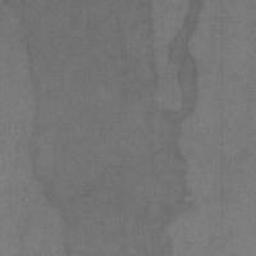Water spot: (0, 0, 206, 256)
